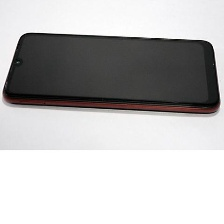phone: (0, 29, 224, 117)
